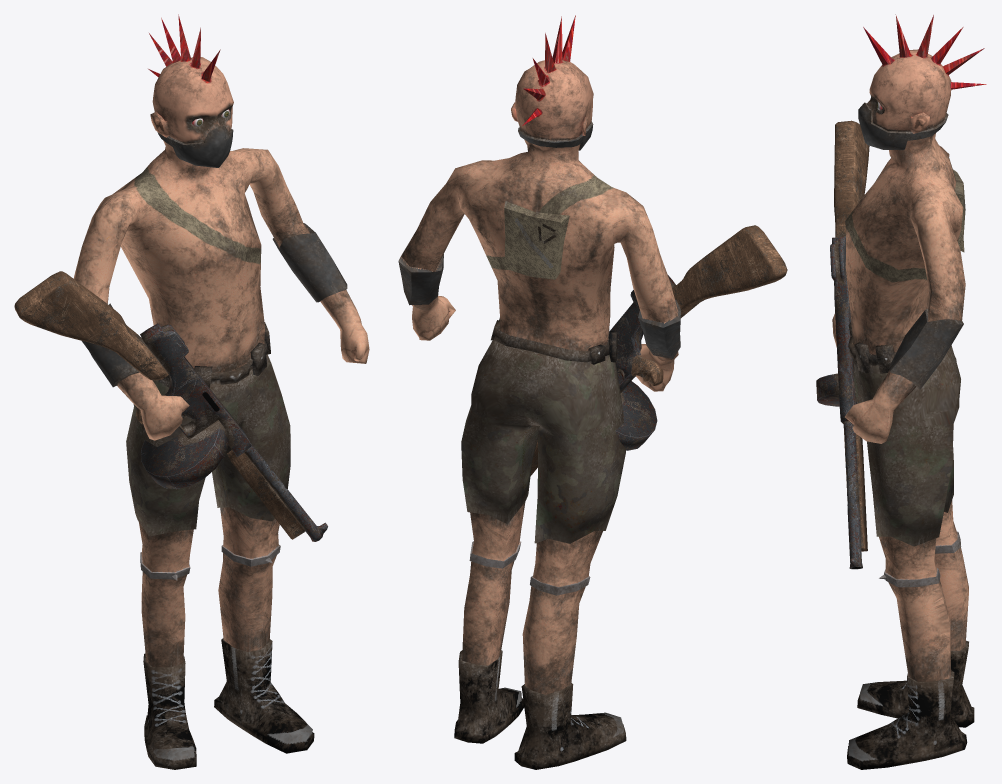
File: Anim_disparar_ametralladora_npc2.0035.obj
3 renders of one model, left to right at view 1: azimuth 30°, elevation 25°; view 2: azimuth 150°, elevation 25°; view 3: azimuth 270°, elevation 25°, orthographic. The views are drawn at different scales.
Visible parts, largest first — view 1: polySurface1; view 2: polySurface1; view 3: polySurface1.
Boxes of the visible parts, x1,y1,x2,y2 form: polySurface1: (14,14,369,769); polySurface1: (398,15,787,769); polySurface1: (816,14,986,769).
Size of the model in its own units: 5.27 by 10.22 by 2.24.
